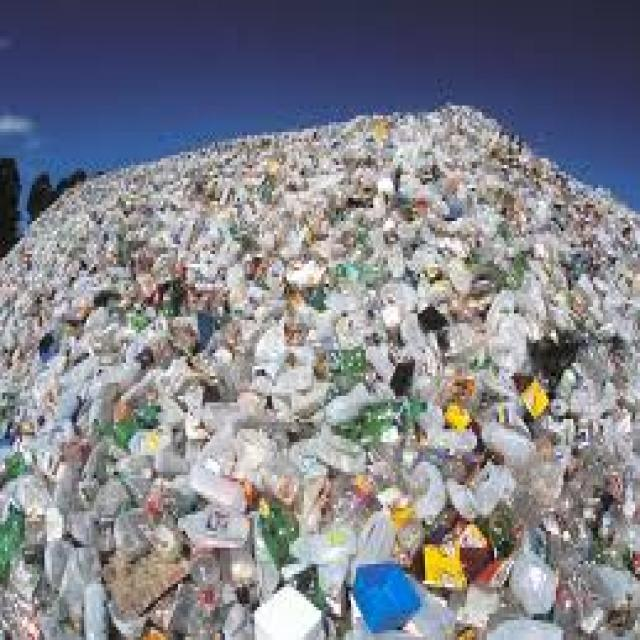heap: (48, 228, 619, 640)
